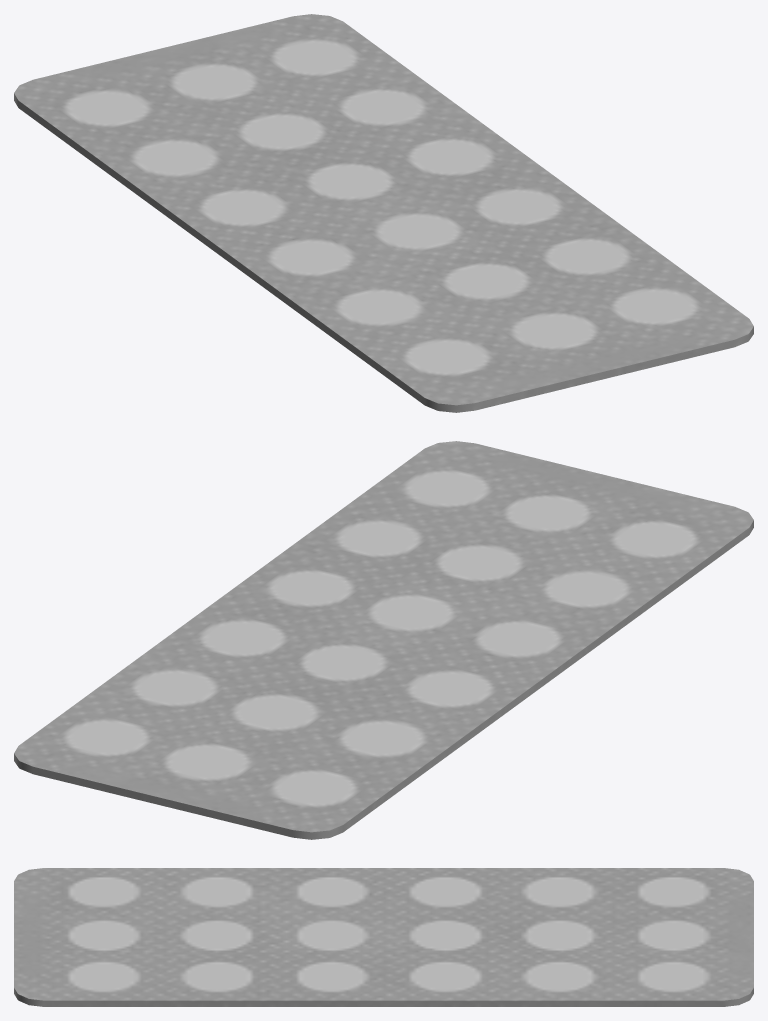
Rendered from HH_Blister_Pack_03.fbx.
3 renders of one model, top to bottom at view 1: azimuth 30°, elevation 25°; view 2: azimuth 150°, elevation 25°; view 3: azimuth 270°, elevation 25°, orthographic. The views are drawn at different scales.
Parts seen in each view (by area): view 1: HH_Blister_Pack_03; view 2: HH_Blister_Pack_03; view 3: HH_Blister_Pack_03.
Boxes of the visible parts, x1,y1,x2,y2 form: HH_Blister_Pack_03: (14,14,753,412); HH_Blister_Pack_03: (14,441,753,839); HH_Blister_Pack_03: (14,868,753,1006).
Size of the model in its own units: 8.02 by 0.1786 by 18.9.
